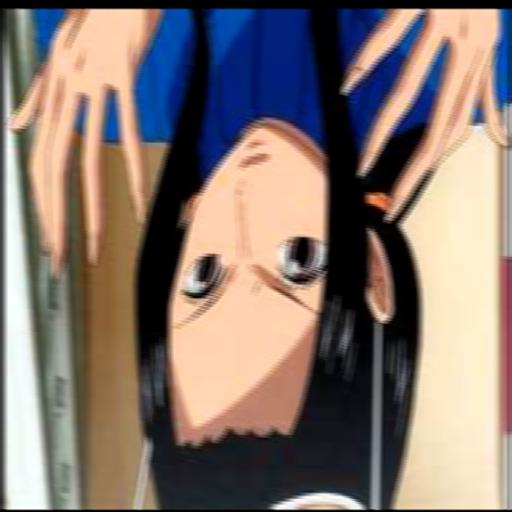NicoRobin: (3, 8, 501, 506)
